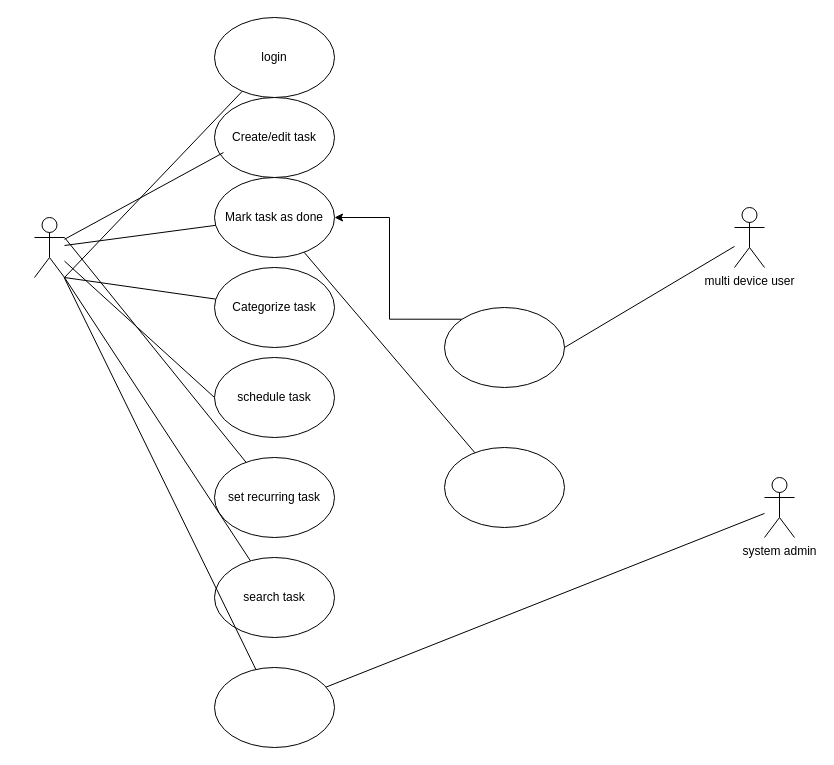
The diagram is 834 pixels wide and 765 high, and some of its shapes have lost their labels. The box of each missing label's shape, as (x1, y1, x2, y2) in pixels:
change theme: (214, 666, 334, 748)
offline data access: (444, 446, 564, 528)
regular user: (34, 216, 64, 278)
sync data: (444, 306, 564, 388)
